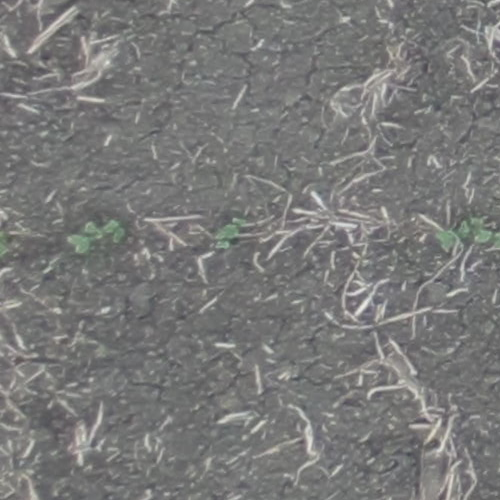plant: (438, 219, 499, 255), (67, 218, 126, 255), (215, 218, 245, 250), (1, 232, 9, 266)
